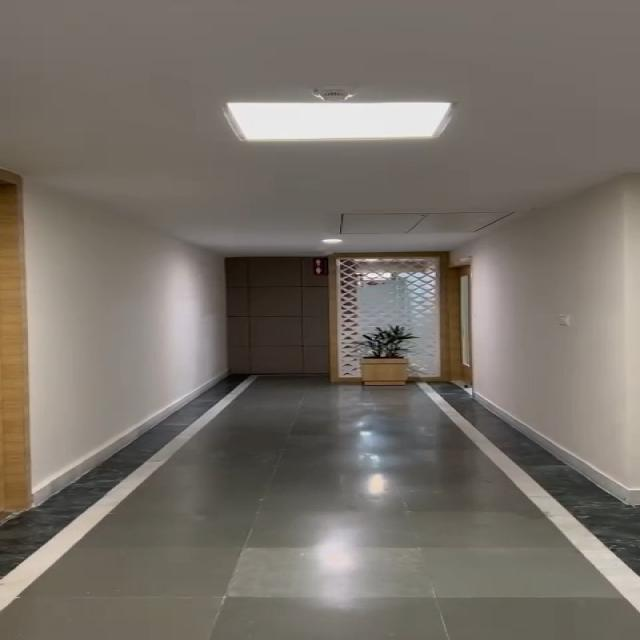floor: (184, 409, 490, 640)
furniture: (350, 319, 428, 402)
wall: (46, 185, 229, 388), (472, 225, 640, 416)
